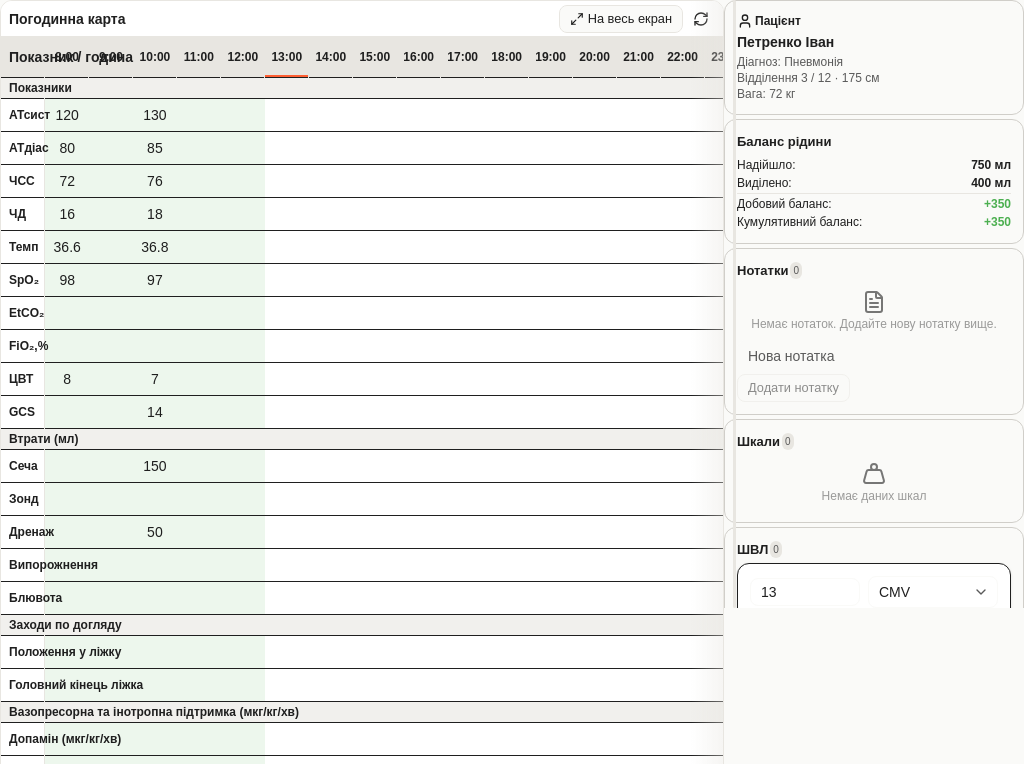
Test case: IntensiveCareCard › Version conflict (HTTP 409) › shows the conflict banner in the modal and "update data" dismisses it after refresh
Click the button with aria-label "Розгорнути на весь екран": (621, 18) left=559, top=4, right=683, bottom=32
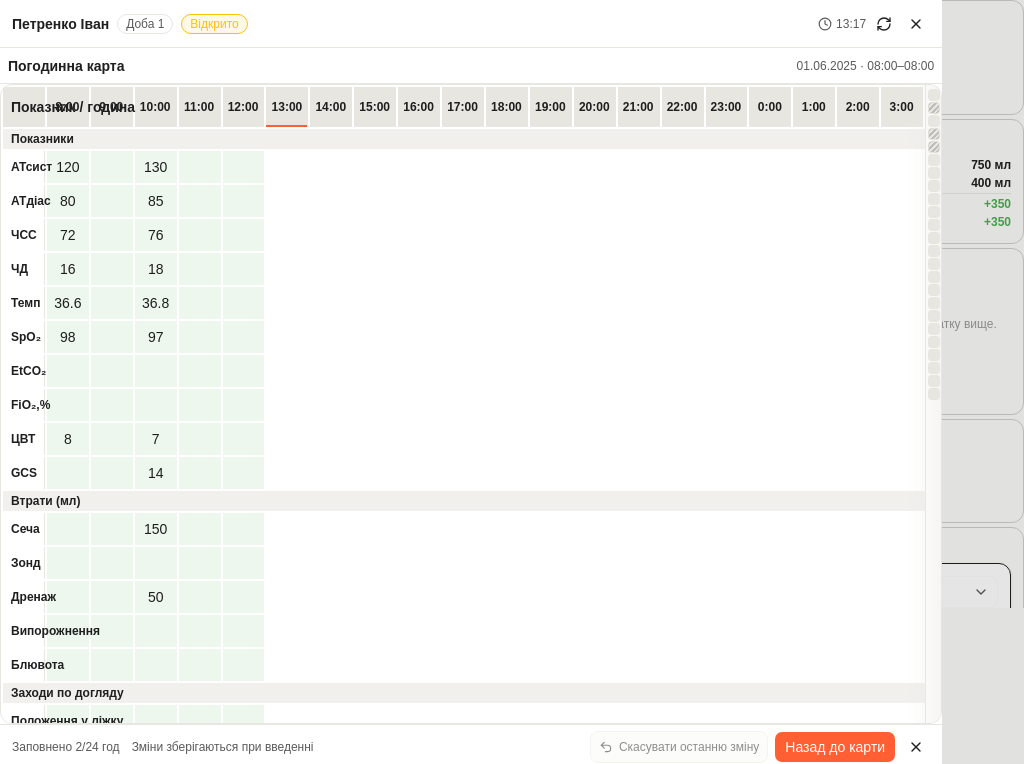
Replace the text in the 2nd number field named "ЧСС 8:00" with "99": (68, 235) left=47, top=227, right=89, bottom=243
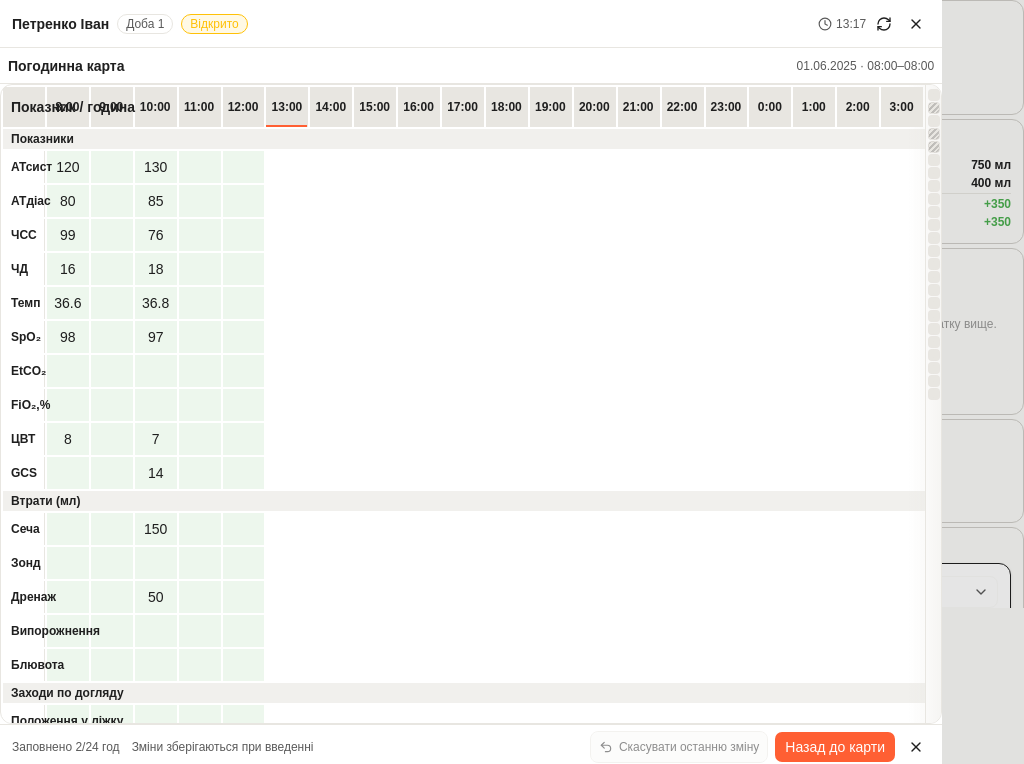
Leave the 2nd number field named "ЧСС 8:00", box left=47, top=227, right=89, bottom=243
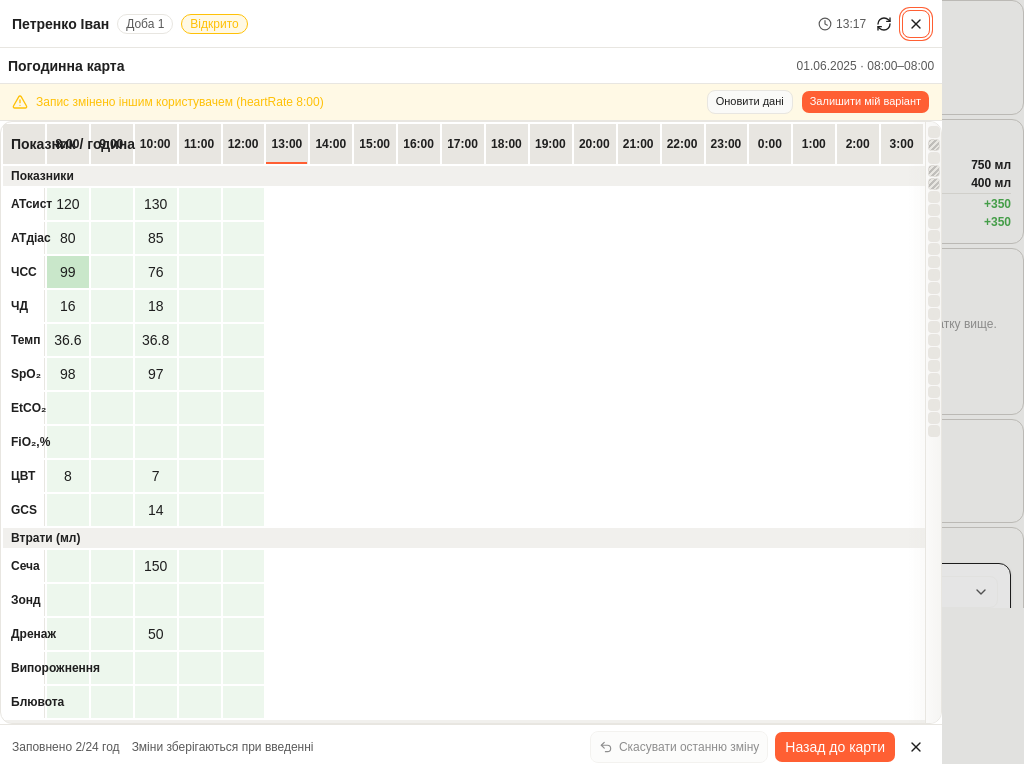
Check: the text "Запис змінено іншим користувачем (heartRate 8:00)" is shown, box left=36, top=95, right=324, bottom=109
Click the button "Оновити дані": (750, 102) left=707, top=90, right=793, bottom=114
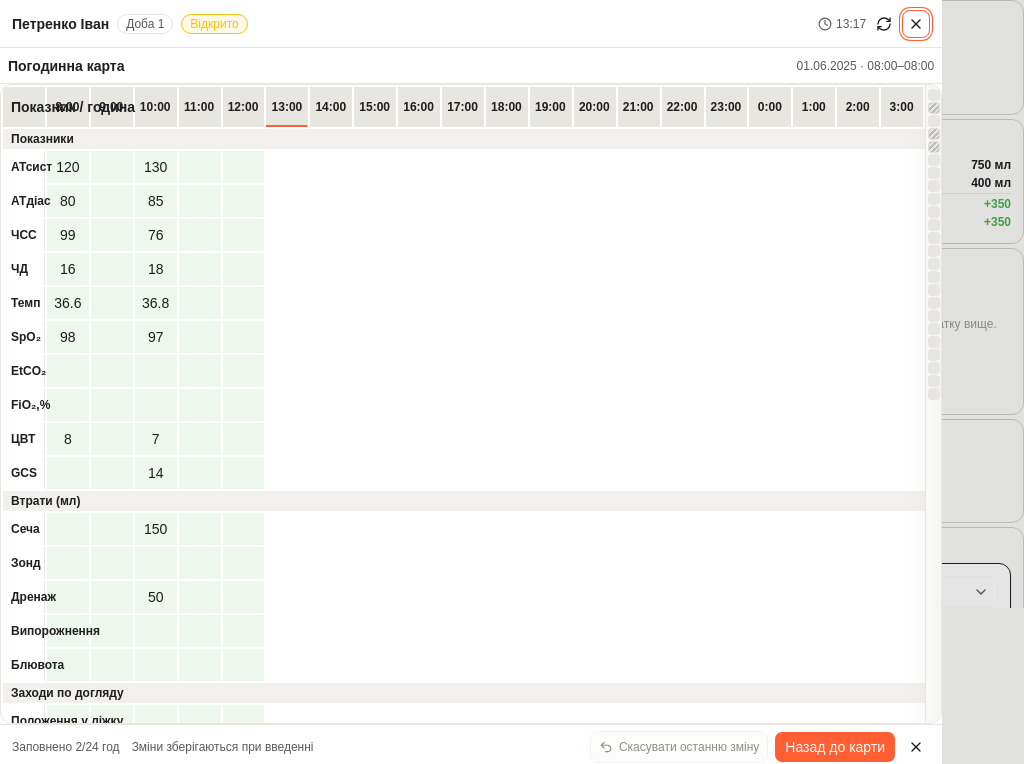
Check: the text "heartRate 8:00" is gone
